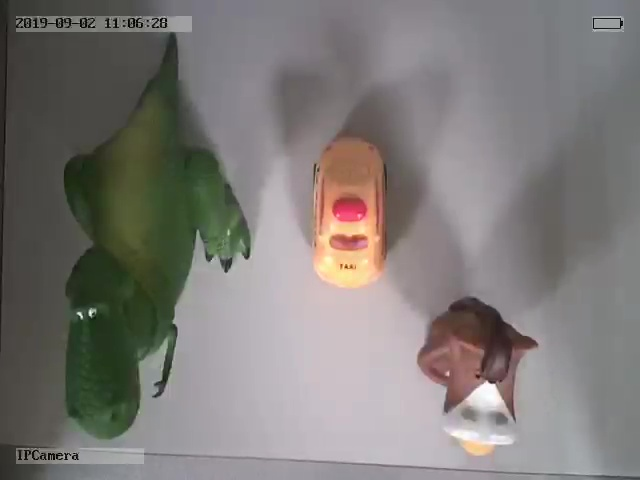car: (310, 132, 389, 290)
horse: (418, 295, 540, 455)
rex: (63, 53, 252, 441)
